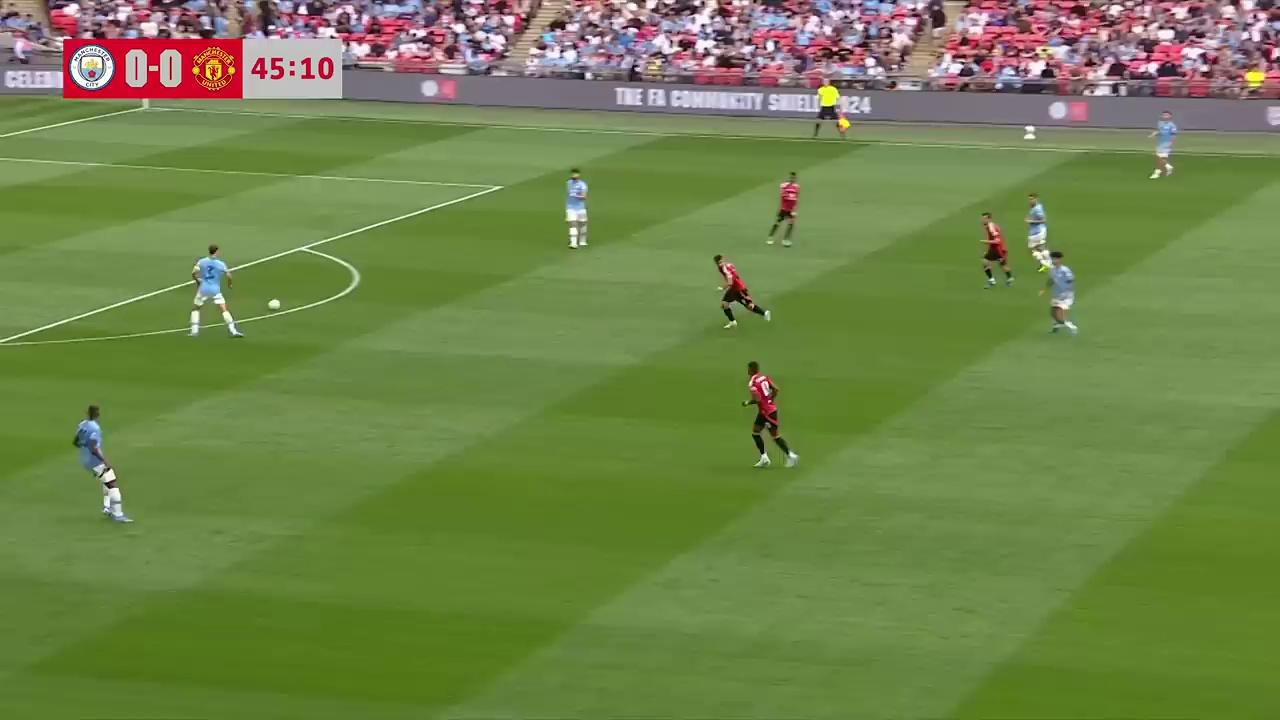ball: (265, 296, 282, 312)
player: (72, 405, 139, 528), (742, 361, 799, 469), (190, 244, 236, 345), (713, 252, 770, 328), (1038, 250, 1077, 335), (979, 213, 1015, 289), (767, 171, 800, 247), (565, 168, 589, 249), (1149, 110, 1177, 178), (1024, 193, 1048, 259)
referee: (812, 85, 850, 139)
